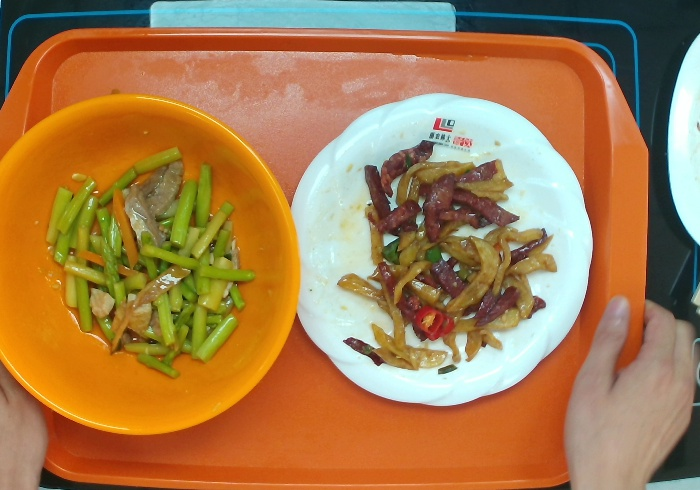ZNLD-Hua_Bian_Wan: (289, 91, 595, 407)
ZNLD-Ju_Se_Tang_Wan: (1, 92, 302, 437)
